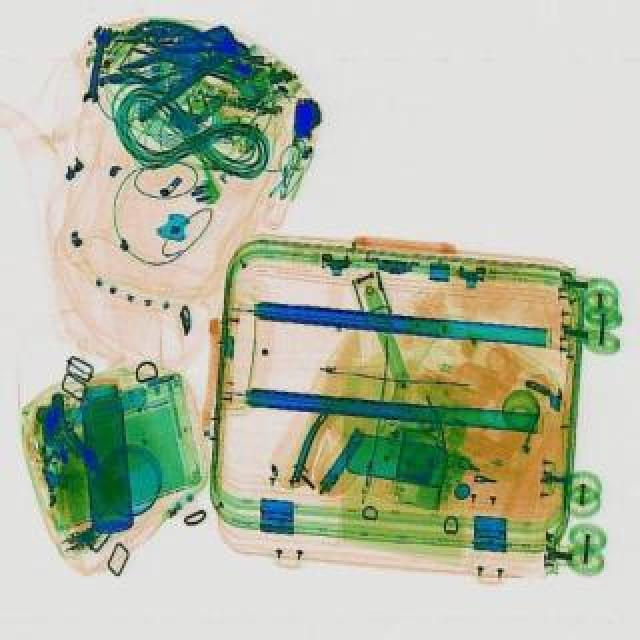scissors: (82, 30, 108, 108)
wrench: (104, 12, 252, 128), (142, 22, 246, 66)
